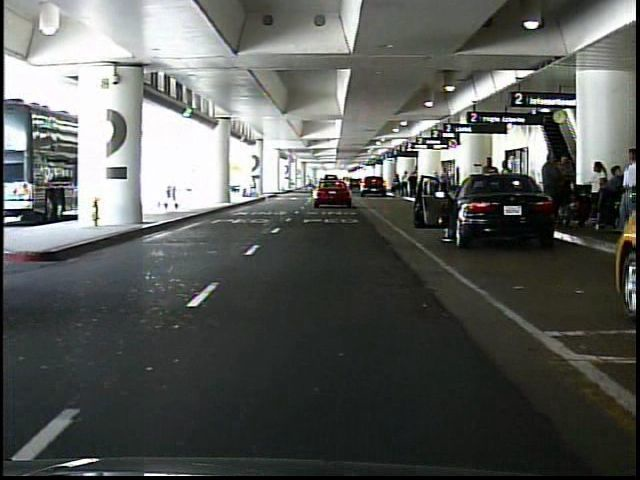person: (538, 150, 566, 225), (619, 148, 639, 240), (605, 164, 625, 231), (481, 156, 500, 214), (589, 160, 608, 207), (500, 158, 516, 213), (402, 169, 412, 198), (410, 172, 419, 199), (395, 175, 403, 196), (306, 174, 315, 191), (567, 149, 568, 227)
